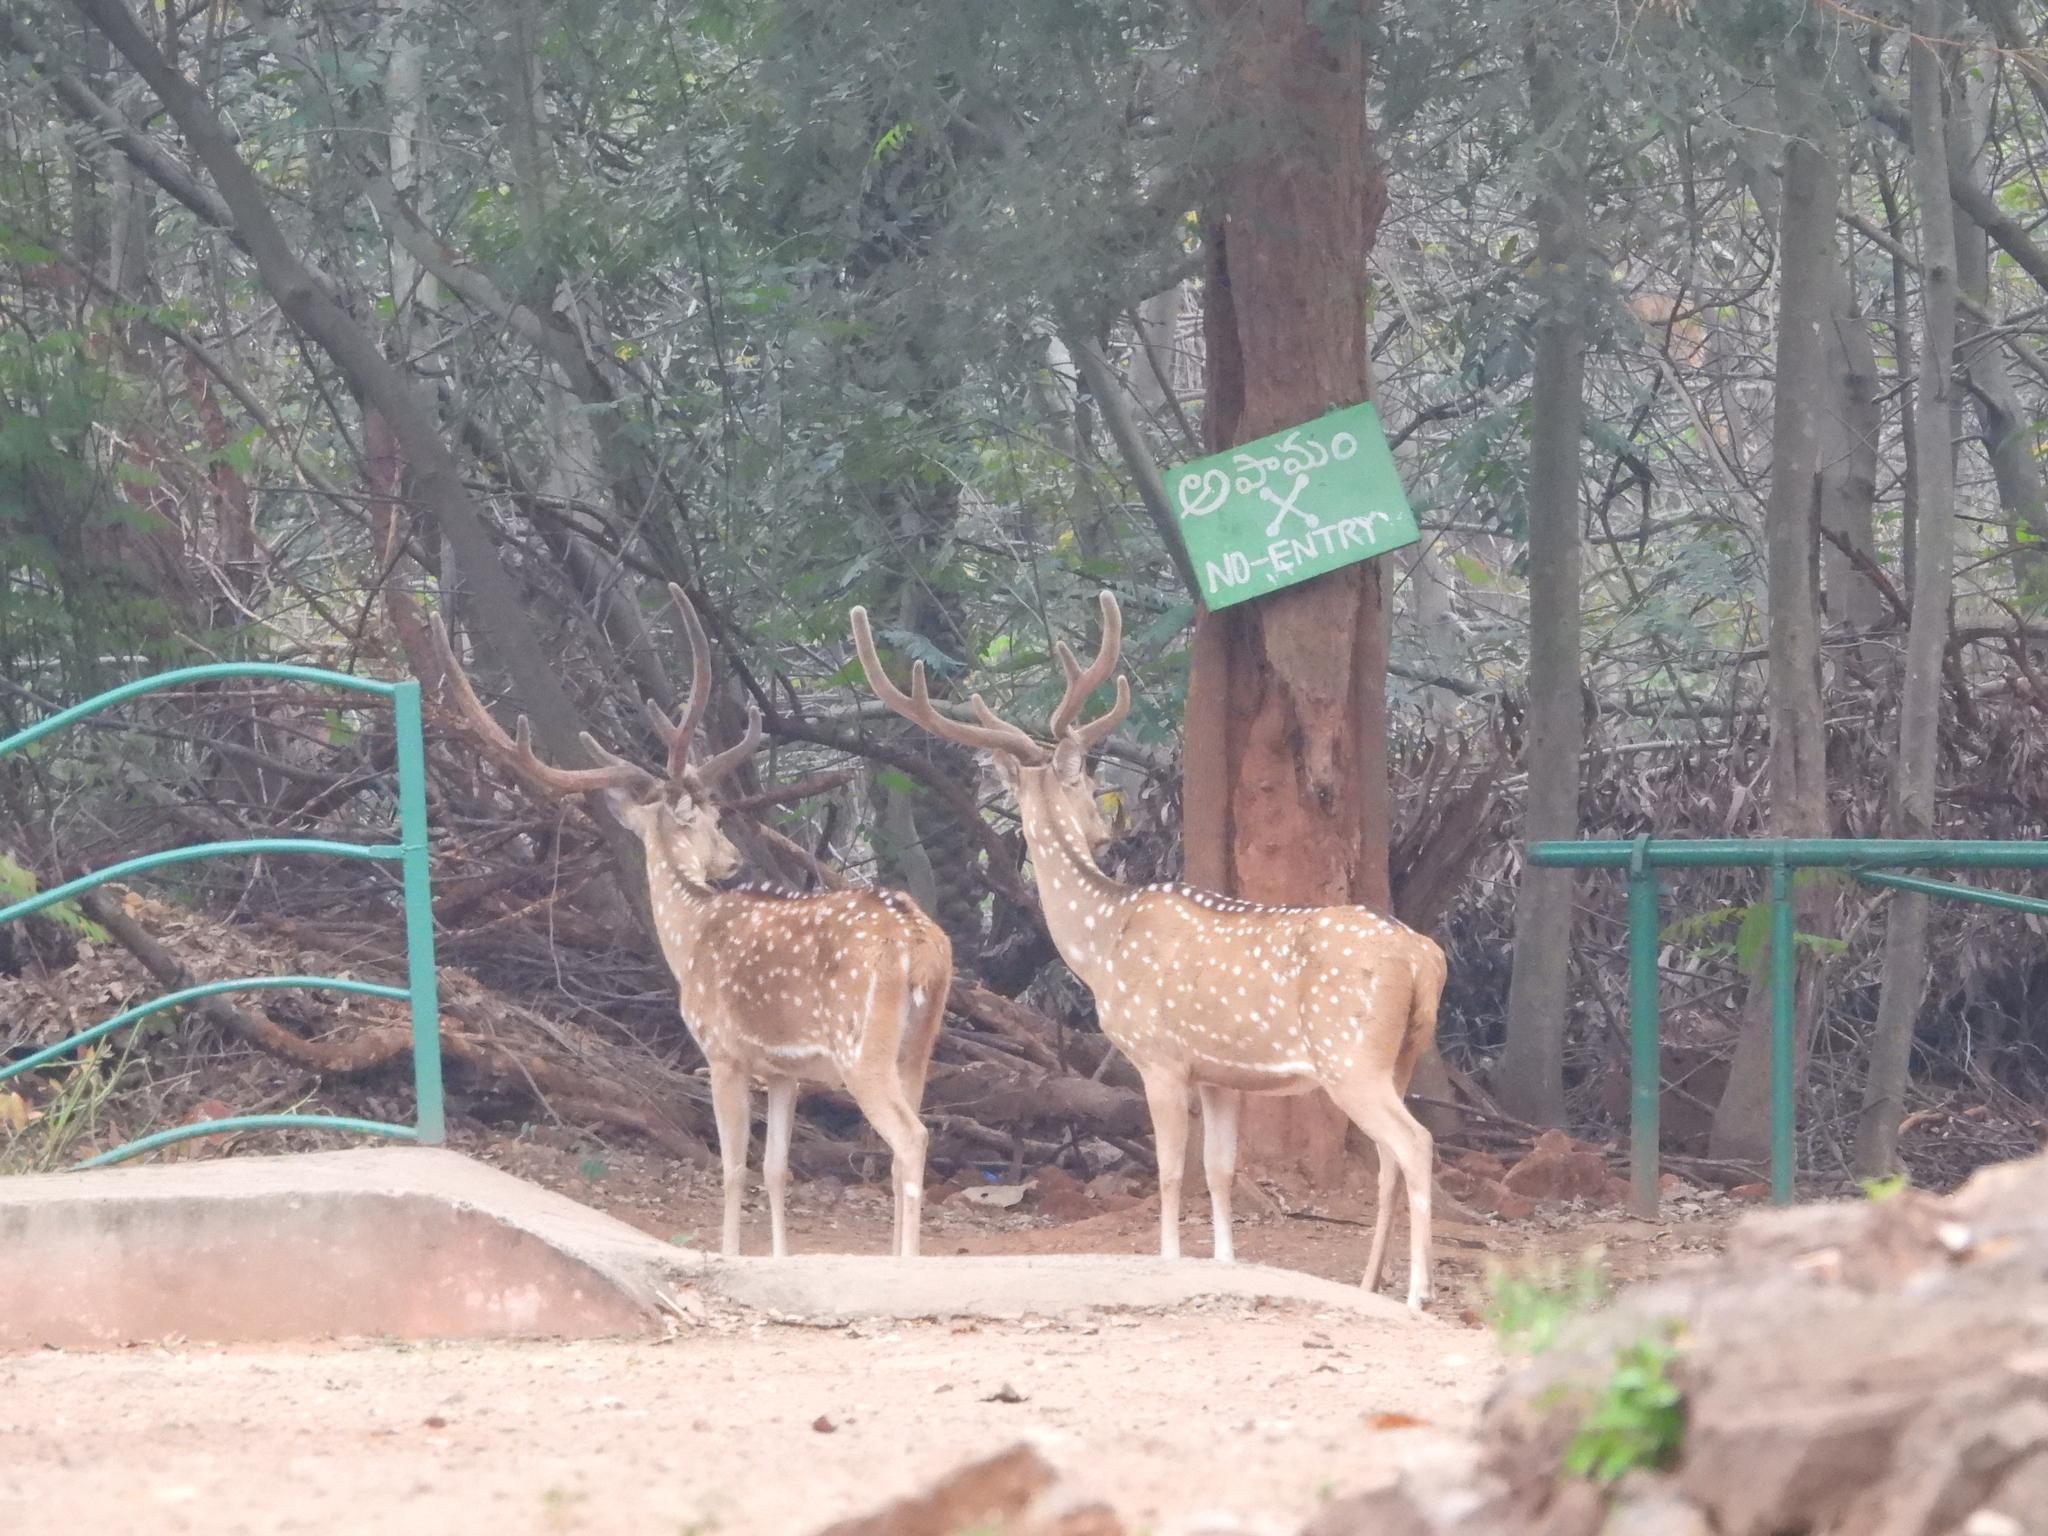Deer: (850, 591, 1445, 1307), (447, 584, 951, 1255), (1242, 968, 1259, 987)
